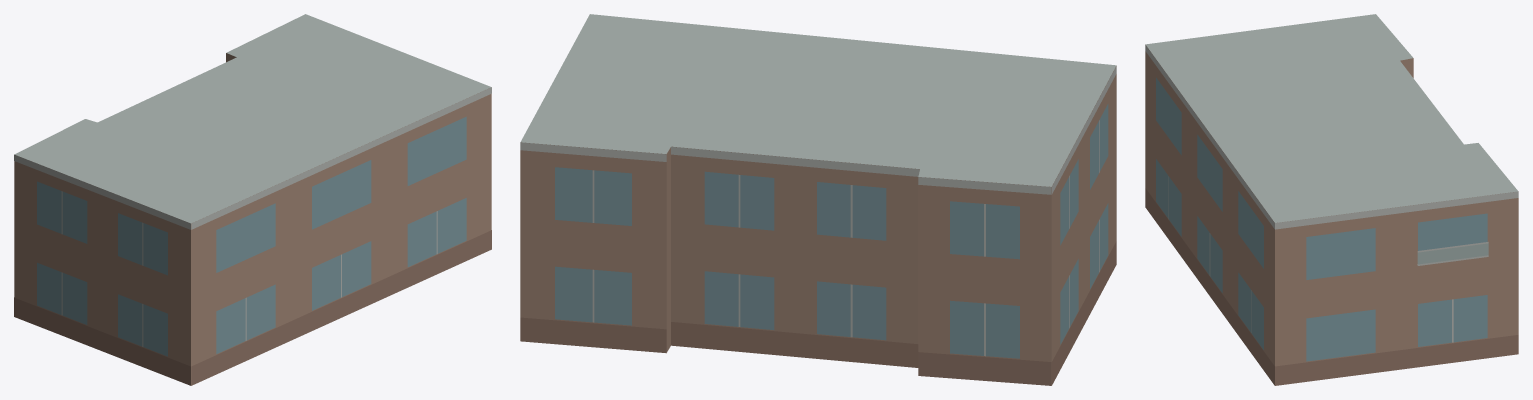
Rendered from survey-upis-33025220.glb.
The picture shows the model from 3 angles, left to right: view 1: azimuth 30°, elevation 25°; view 2: azimuth 150°, elevation 25°; view 3: azimuth 270°, elevation 25°; orthographic projection. The views are drawn at different scales.
Visible parts, largest first — view 1: survey-upis-33025220.tmp; view 2: survey-upis-33025220.tmp; view 3: survey-upis-33025220.tmp.
Part boxes in pixels (x1=…): survey-upis-33025220.tmp: x1=14, y1=14, x2=491, y2=385; survey-upis-33025220.tmp: x1=520, y1=14, x2=1116, y2=385; survey-upis-33025220.tmp: x1=1145, y1=14, x2=1518, y2=385.
Size of the model in its own units: 16.81 by 6.1 by 12.68.
